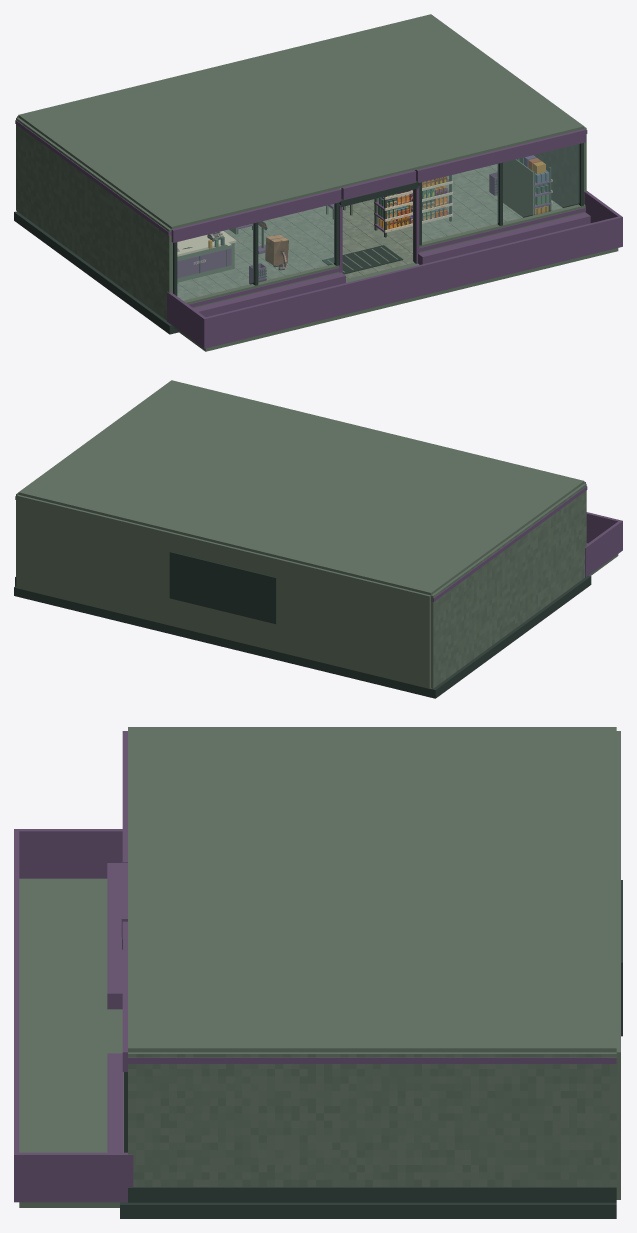
Rendered from L1_便民店初访.fbx.
3 views of the same model, one above another, from view 1: azimuth 30°, elevation 25°; view 2: azimuth 150°, elevation 25°; view 3: azimuth 270°, elevation 25° (orthographic). The views are drawn at different scales.
Visible parts, largest first — view 1: CEILING_FRONT, WALL_PIXEL_V_0_0_-1, L1_APRON_FRONT_GUARD, WINDOW_GLASS_8.3, WINDOW_GLASS_0, FRONT_HEADER_0, FRONT_HEADER_8.3, SHOP_FRONT_SILL.001, L1_ENTRY_APRON, FOUNDATION, SHOP_FRONT_SILL, WALL_PIXEL_V_14_0_-1 (+16 smaller); view 2: CEILING_FRONT, WALL_PIXEL_V_0_0_-1, L1_NORTH_LOWER, L1_NORTH_UPPER, L1_NORTH_LEFT, L1_NORTH_RIGHT, FOUNDATION, L1_WINDOW_NIGHT_BACKING, L1_APRON_SIDE_GUARD, WALL_TRIM_V_0_0, WALL_V_0_0, L1_APRON_FRONT_GUARD; view 3: CEILING_FRONT, WALL_PIXEL_V_14_0_1, L1_ENTRY_APRON, FOUNDATION, SKIRT_V_14_0, L1_APRON_SIDE_GUARD.001, L1_APRON_SIDE_GUARD, WALL_TRIM_V_14_0, SHOP_FRONT_SILL, L1_APRON_FRONT_GUARD, L1_NORTH_UPPER, SHOP_FRONT_SILL.001 (+3 smaller).
Boxes of the visible parts, x1=… form: CEILING_FRONT: x1=18, y1=14, x2=584, y2=229; WALL_PIXEL_V_0_0_-1: x1=16, y1=118, x2=169, y2=320; L1_APRON_FRONT_GUARD: x1=202, y1=216, x2=622, y2=348; WINDOW_GLASS_8.3: x1=422, y1=144, x2=579, y2=241; WINDOW_GLASS_0: x1=177, y1=204, x2=334, y2=299; FRONT_HEADER_0: x1=171, y1=188, x2=341, y2=242; FRONT_HEADER_8.3: x1=415, y1=129, x2=585, y2=182; SHOP_FRONT_SILL.001: x1=418, y1=212, x2=590, y2=264; L1_ENTRY_APRON: x1=174, y1=248, x2=618, y2=351; FOUNDATION: x1=14, y1=211, x2=178, y2=334; SHOP_FRONT_SILL: x1=193, y1=272, x2=345, y2=317; WALL_PIXEL_V_14_0_-1: x1=534, y1=144, x2=578, y2=207; CEILING_FRONT: x1=18, y1=380, x2=584, y2=595; WALL_PIXEL_V_0_0_-1: x1=433, y1=484, x2=586, y2=687; L1_NORTH_LOWER: x1=17, y1=560, x2=430, y2=688; L1_NORTH_UPPER: x1=17, y1=495, x2=430, y2=614; L1_NORTH_LEFT: x1=276, y1=577, x2=430, y2=661; L1_NORTH_RIGHT: x1=17, y1=514, x2=169, y2=597; FOUNDATION: x1=14, y1=575, x2=591, y2=698; L1_WINDOW_NIGHT_BACKING: x1=169, y1=551, x2=276, y2=624; L1_APRON_SIDE_GUARD: x1=585, y1=520, x2=622, y2=577; WALL_TRIM_V_0_0: x1=431, y1=486, x2=587, y2=601; WALL_V_0_0: x1=431, y1=483, x2=585, y2=688; L1_APRON_FRONT_GUARD: x1=586, y1=512, x2=622, y2=551; CEILING_FRONT: x1=128, y1=727, x2=616, y2=1052; WALL_PIXEL_V_14_0_1: x1=128, y1=1054, x2=616, y2=1186; L1_ENTRY_APRON: x1=19, y1=878, x2=122, y2=1207; FOUNDATION: x1=120, y1=1202, x2=616, y2=1218; SKIRT_V_14_0: x1=128, y1=1187, x2=616, y2=1202; L1_APRON_SIDE_GUARD.001: x1=14, y1=1152, x2=133, y2=1202; L1_APRON_SIDE_GUARD: x1=14, y1=829, x2=122, y2=878; WALL_TRIM_V_14_0: x1=128, y1=1057, x2=616, y2=1063; SHOP_FRONT_SILL: x1=107, y1=863, x2=122, y2=1009; L1_APRON_FRONT_GUARD: x1=14, y1=829, x2=19, y2=1202; L1_NORTH_UPPER: x1=616, y1=731, x2=620, y2=1081; SHOP_FRONT_SILL.001: x1=107, y1=1053, x2=122, y2=1152.
Size of the model in its own units: 14.3 by 3.4 by 11.22.
41 materials, 8 textured.
